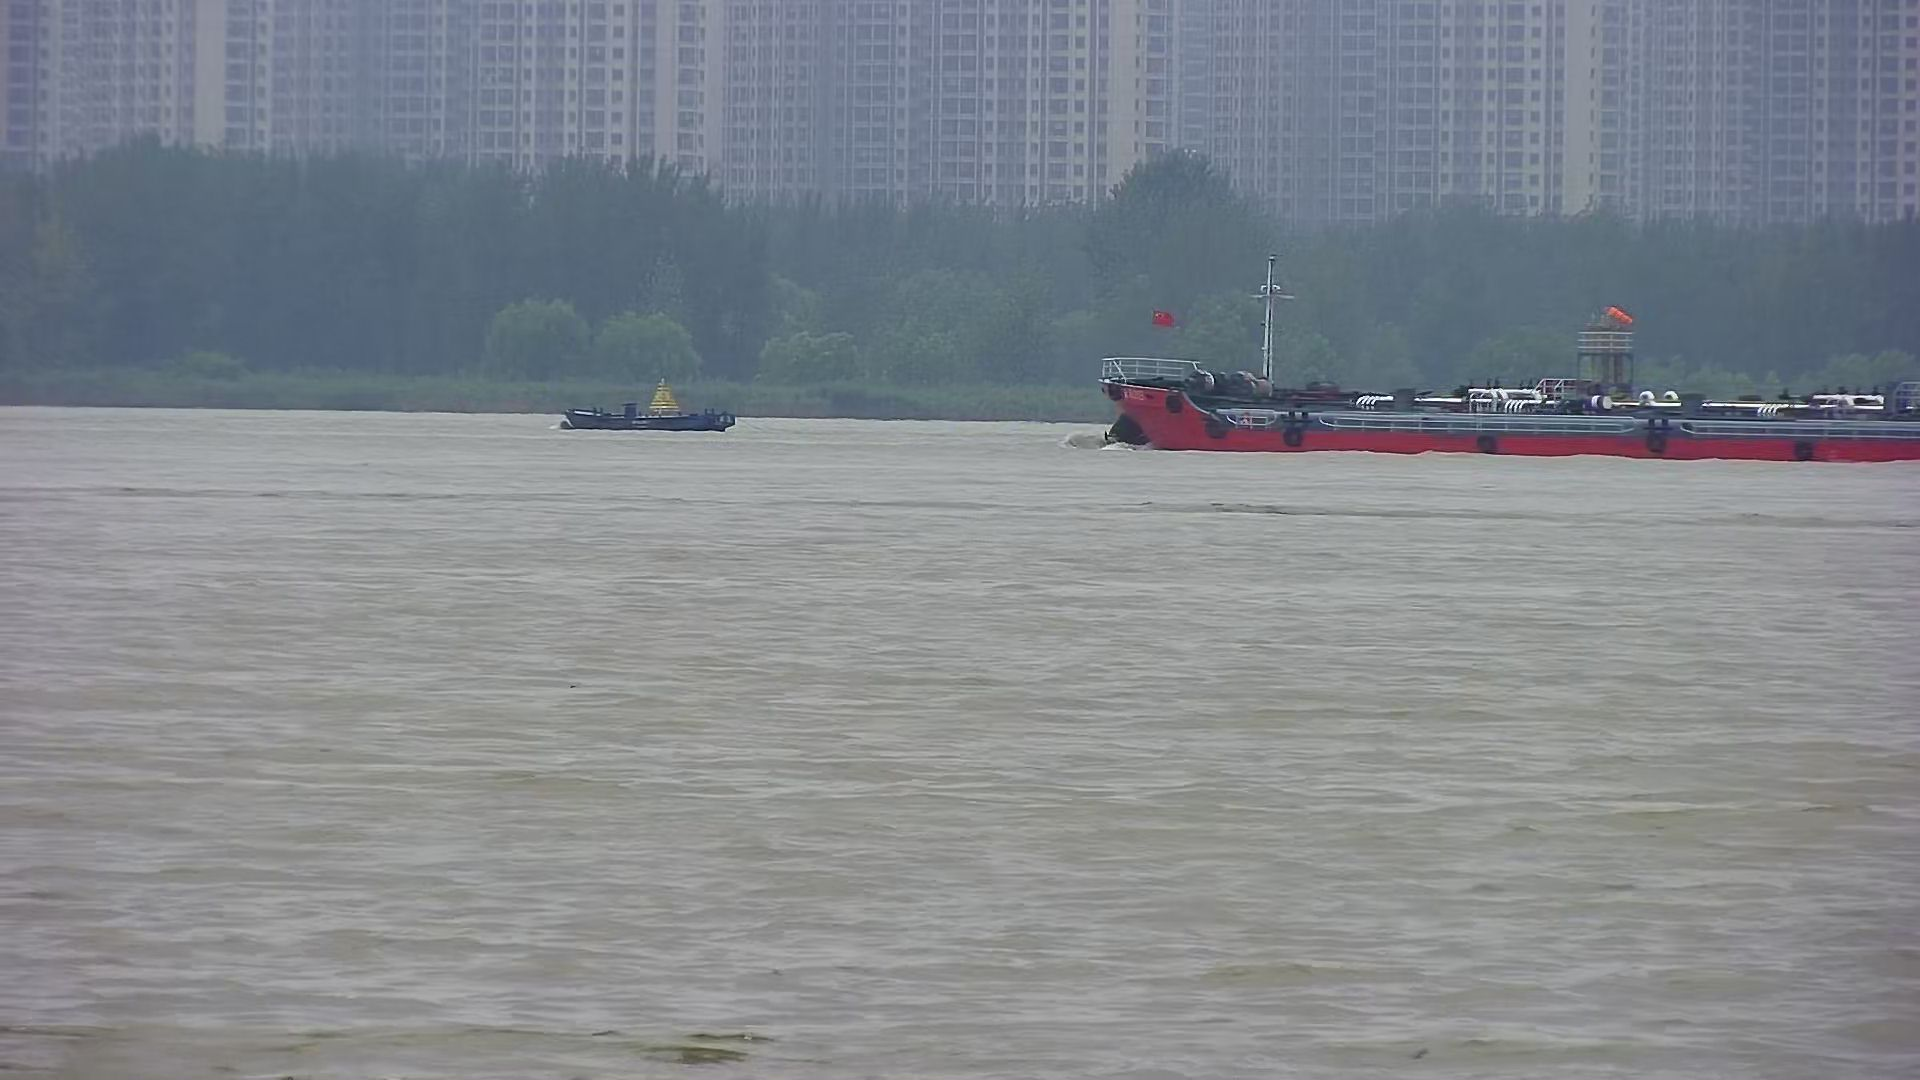boat: (559, 380, 737, 433)
ship: (1095, 255, 1920, 462)
